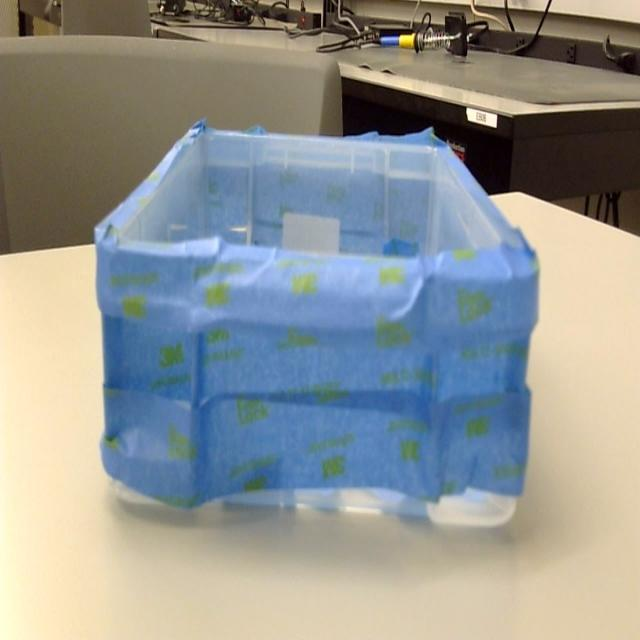bucket: (93, 120, 541, 533)
